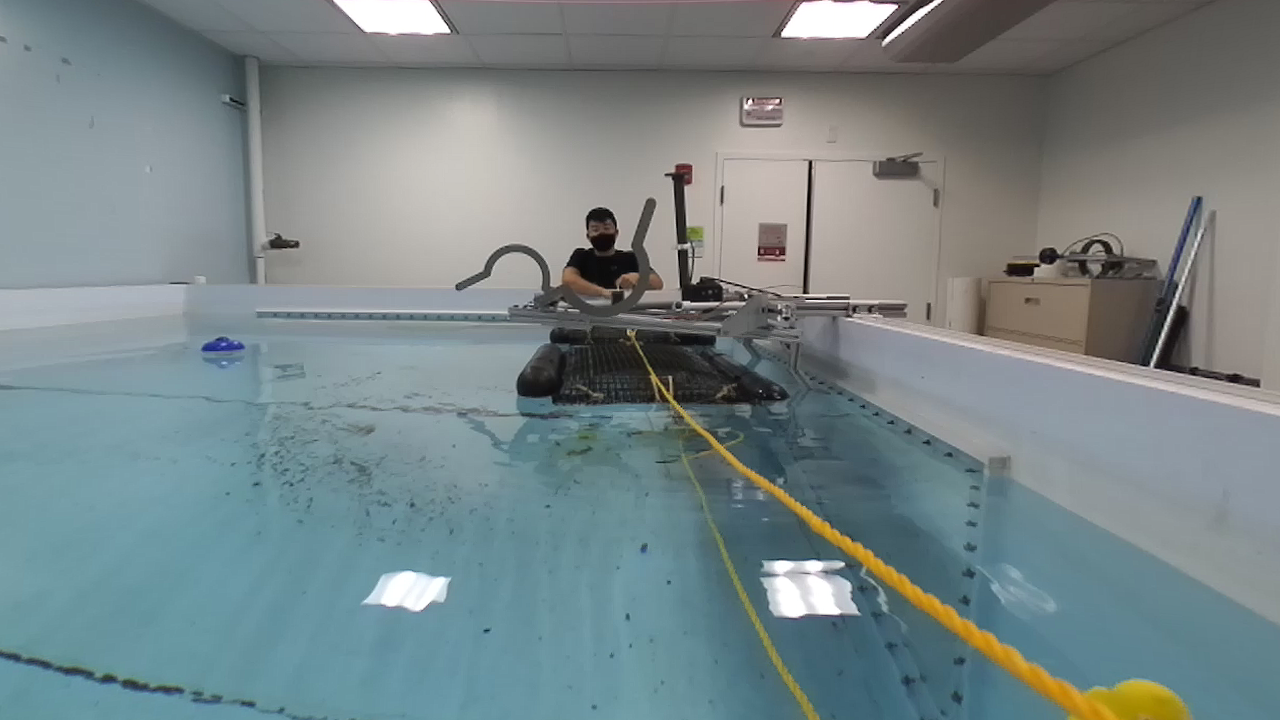bag: (518, 337, 791, 414)
